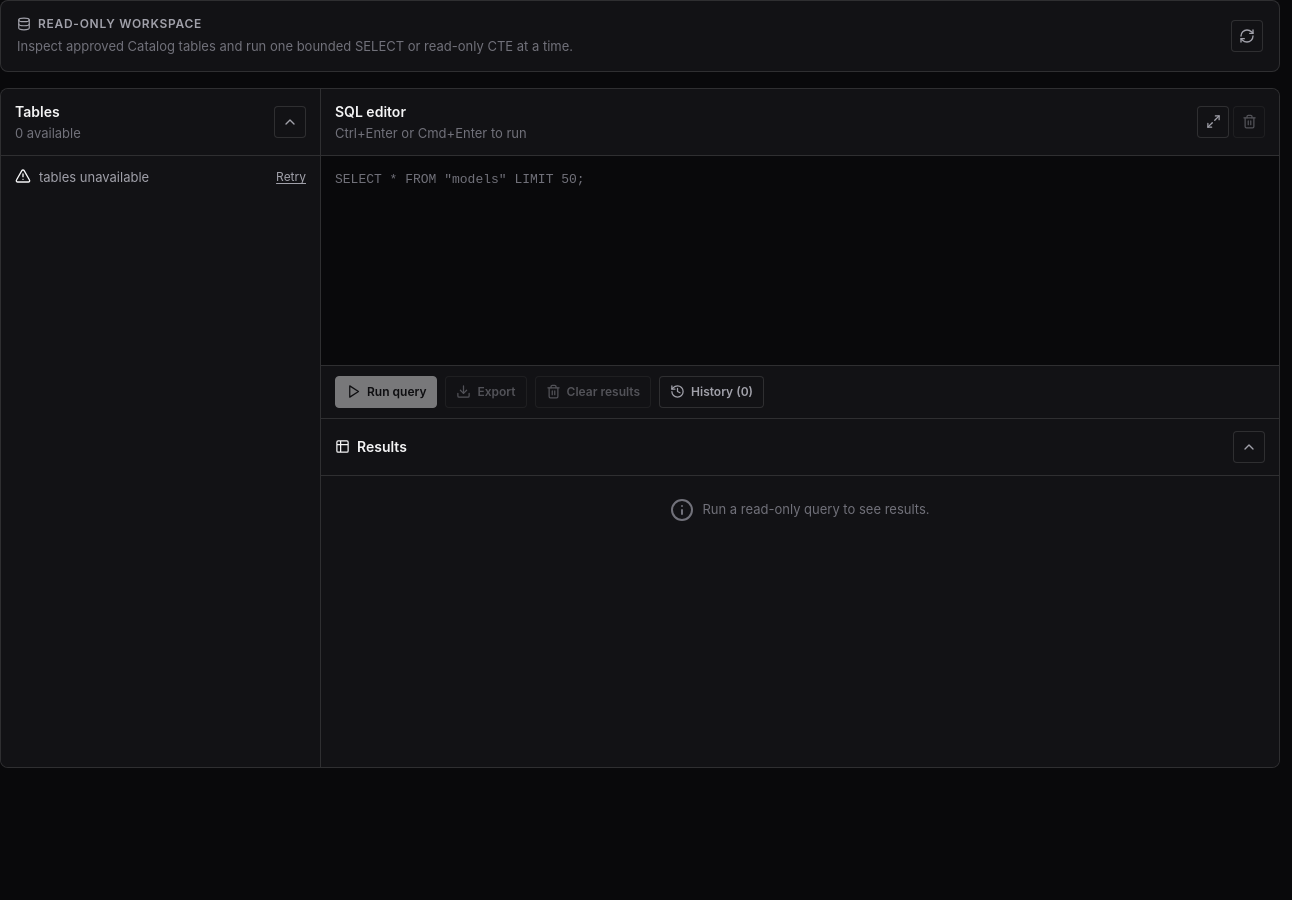
DatabaseBrowserPage › handles table and schema request failures without crashing
Expected: the message shows "tables unavailable", [39,169,149,185]
Click the button "Retry" at {"x": 291, "y": 177}, box [276,168,306,186]
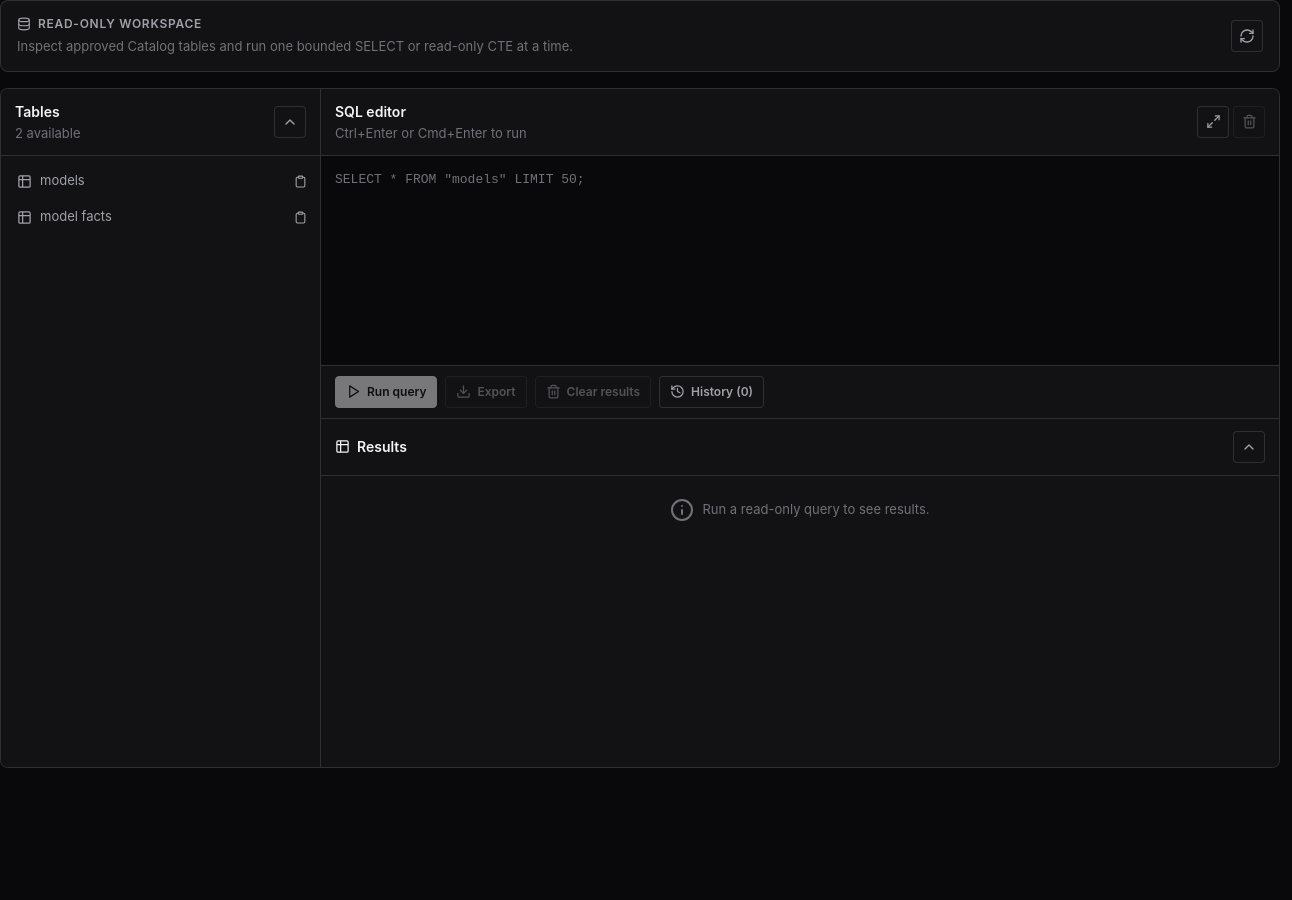
Result: the text "models" is shown at [40,171,85,191]
Click the option "models" at {"x": 62, "y": 180}, box [9,164,284,198]
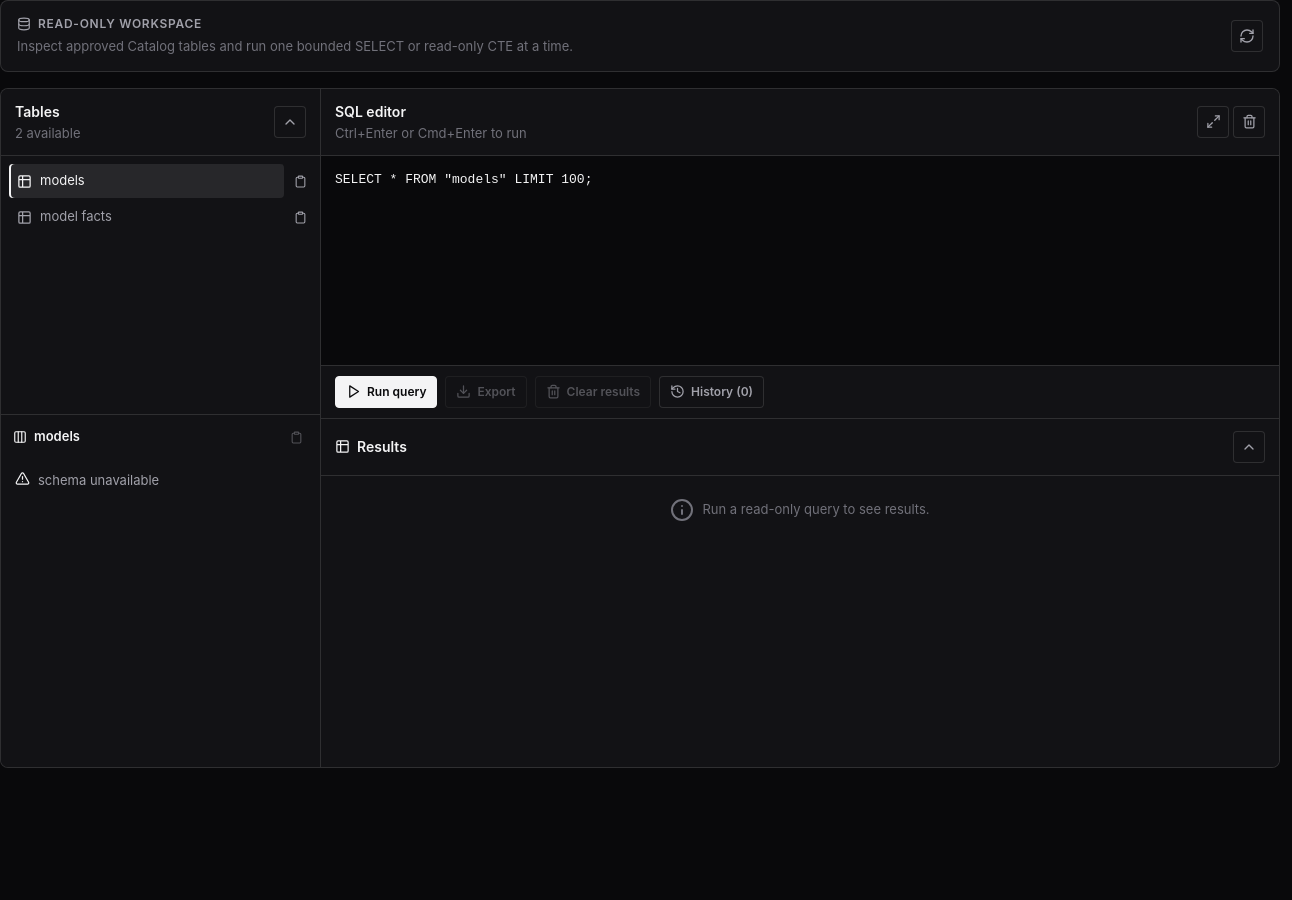
Result: the text "schema unavailable" is shown at [38,471,159,491]
